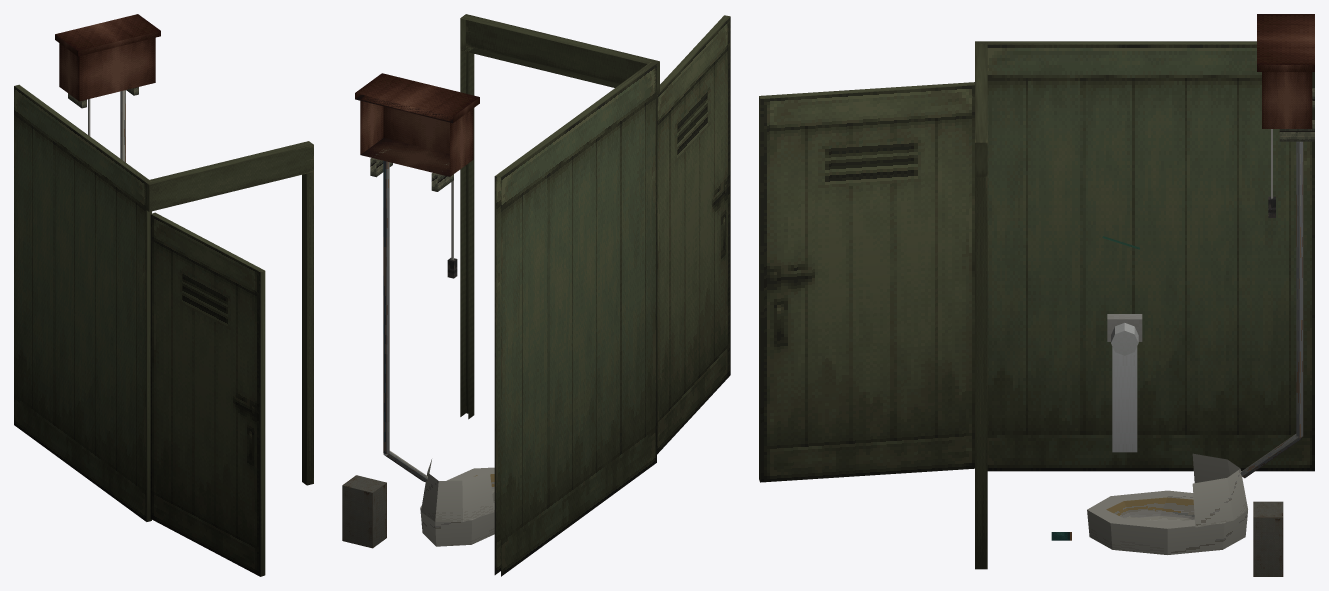
Rendered from prop_toilet_stall-3.glb.
The picture shows the model from 3 angles, left to right: view 1: azimuth 30°, elevation 25°; view 2: azimuth 150°, elevation 25°; view 3: azimuth 270°, elevation 25°; orthographic projection. The views are drawn at different scales.
Parts seen in each view (by area): view 1: prop_toilet_stall-3; view 2: prop_toilet_stall-3; view 3: prop_toilet_stall-3.
Boxes of the visible parts, left/top/right/bottom form: prop_toilet_stall-3: left=14, top=14, right=313, bottom=576; prop_toilet_stall-3: left=342, top=14, right=730, bottom=576; prop_toilet_stall-3: left=759, top=14, right=1314, bottom=576.
Bounding box in the file's own units: 0.95 × 2.18 × 2.21.
Materials: 13 (13 with a texture image).
